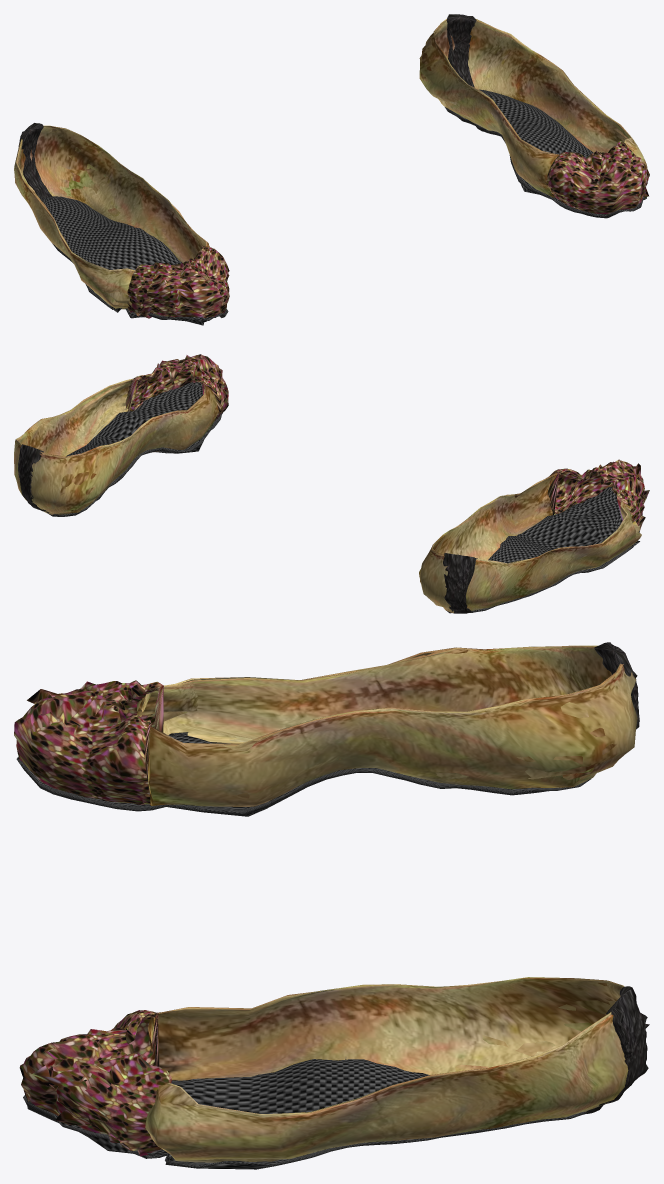
File: elvs-flatshoe-plain1.glb
3 views of the same model, one above another, from view 1: azimuth 30°, elevation 25°; view 2: azimuth 150°, elevation 25°; view 3: azimuth 270°, elevation 25° (orthographic). The views are drawn at different scales.
Parts seen in each view (by area): view 1: Human.elvs_flatshoe_plain1; view 2: Human.elvs_flatshoe_plain1; view 3: Human.elvs_flatshoe_plain1.
Part boxes in pixels (x1,y1,x2,y2): Human.elvs_flatshoe_plain1: (14, 14, 649, 325); Human.elvs_flatshoe_plain1: (14, 354, 649, 613); Human.elvs_flatshoe_plain1: (14, 642, 649, 1169).
Size of the model in its own units: 0.5417 by 0.0846 by 0.3264.
1 material, 1 textured.
